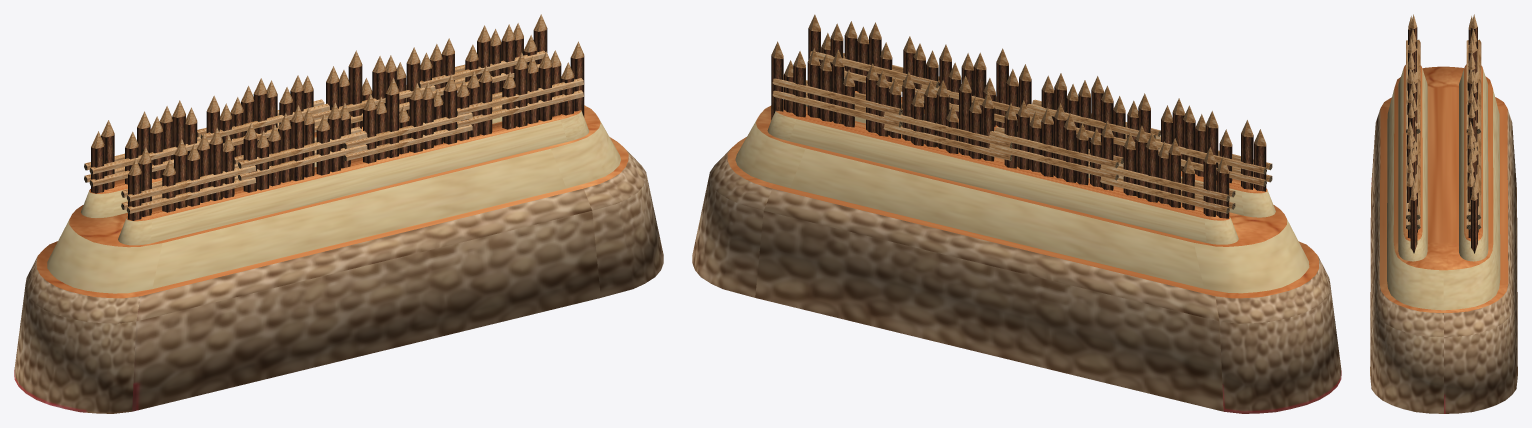
Rendered from wall_long.dae.
3 views of the same model, side by side, from view 1: azimuth 30°, elevation 25°; view 2: azimuth 150°, elevation 25°; view 3: azimuth 270°, elevation 25° (orthographic). The views are drawn at different scales.
Parts seen in each view (by area): view 1: wall_long; view 2: wall_long; view 3: wall_long.
Part boxes in pixels (bbox=[...]): wall_long: bbox=[14, 14, 663, 413]; wall_long: bbox=[692, 14, 1341, 413]; wall_long: bbox=[1370, 14, 1517, 413].
Bounding box in the file's own units: 46.32 × 11.66 × 17.45.
